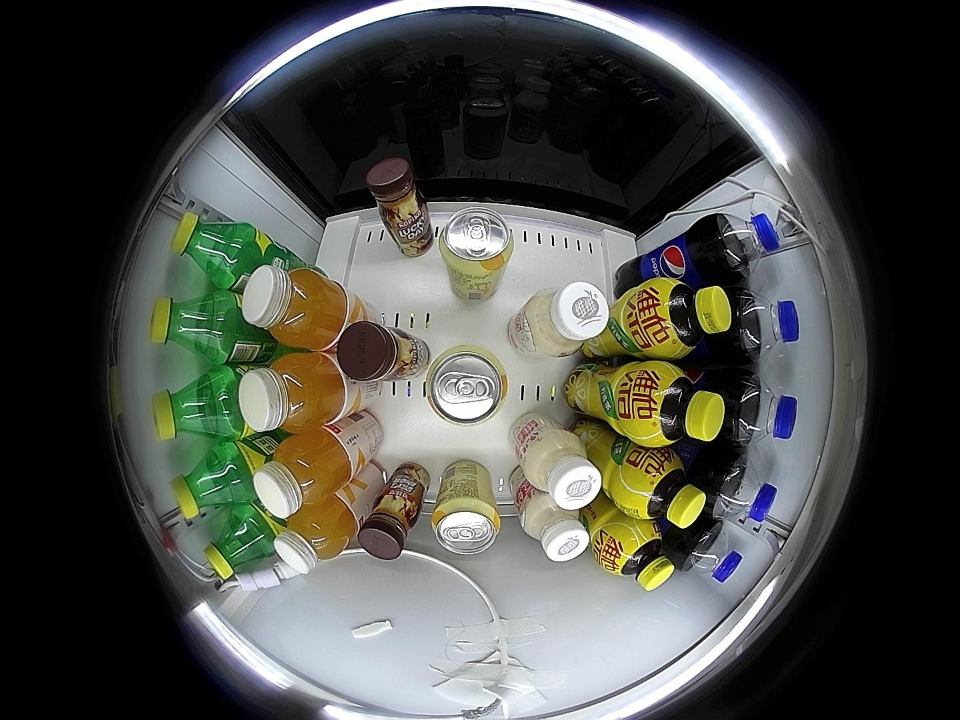baishikele-2: (728, 373, 798, 447), (708, 456, 778, 527), (731, 290, 801, 361), (711, 211, 781, 278), (680, 523, 744, 584)
lujikafei: (358, 492, 421, 561), (366, 158, 431, 224), (337, 321, 403, 382)
mangguoxiaolao: (424, 344, 510, 427), (439, 208, 515, 280), (432, 495, 501, 555)
weic: (241, 264, 349, 351), (251, 430, 353, 517), (238, 351, 346, 433), (273, 497, 357, 575)
weitaningmeng-bottle: (631, 363, 725, 448), (641, 279, 732, 359), (624, 451, 707, 530), (603, 524, 675, 592)
weiweidounai: (528, 281, 611, 358), (524, 432, 602, 510), (519, 495, 590, 562)
xuebi-b: (171, 212, 246, 285), (171, 447, 244, 520), (153, 372, 227, 442), (203, 510, 270, 582), (151, 294, 223, 360)
